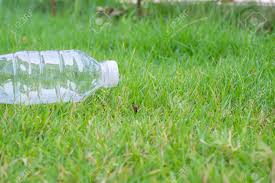plastic_bottle: (1, 46, 124, 105)
